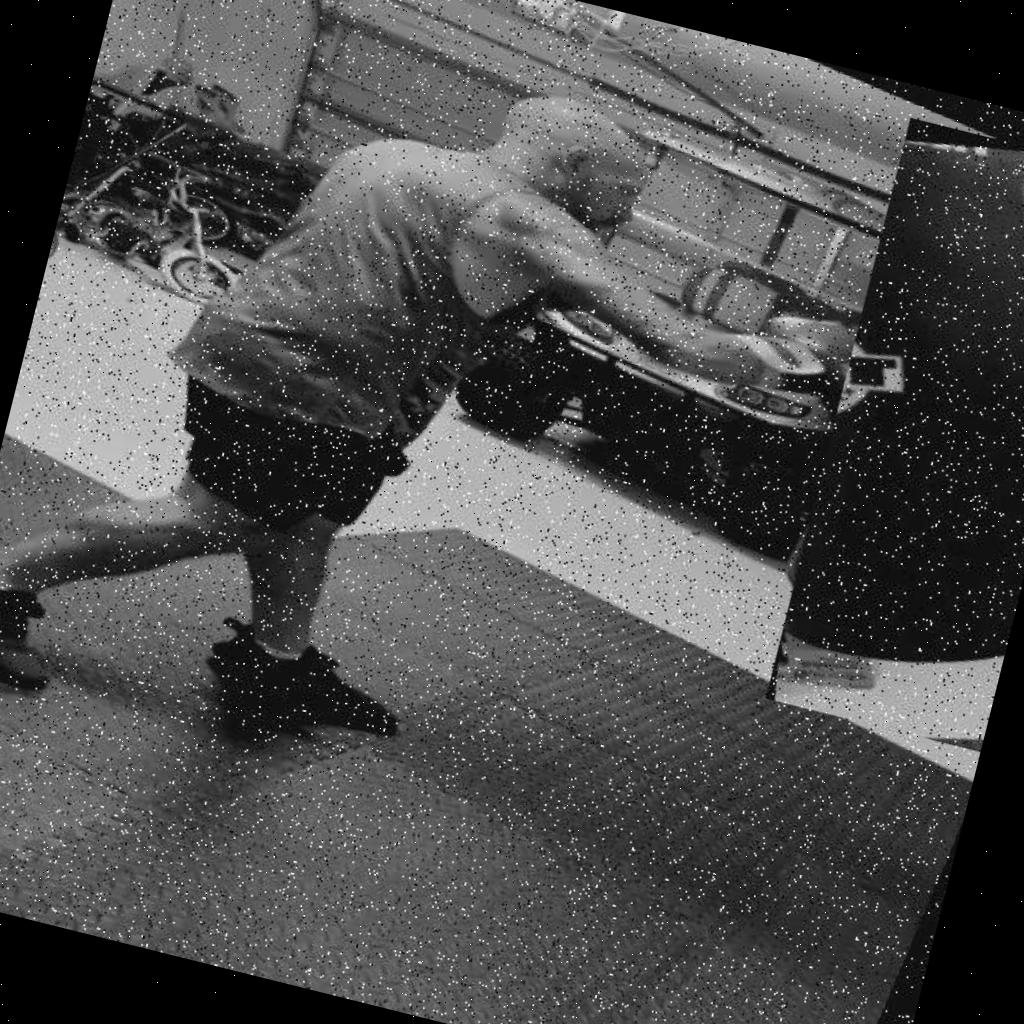bag: (765, 116, 1024, 751)
cross: (254, 0, 1005, 526)
